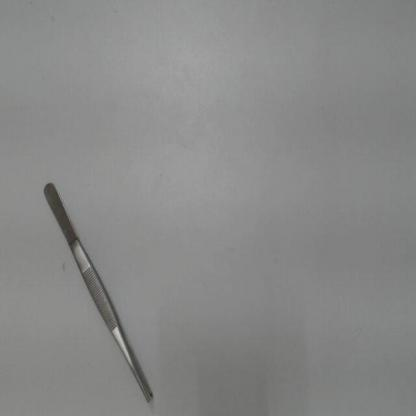Gillies Toothed Dissector: (33, 174, 161, 412)
